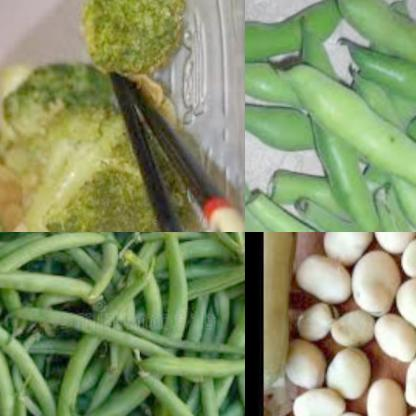beans: (0, 232, 245, 416), (245, 0, 416, 232), (295, 232, 416, 416), (261, 232, 303, 392)
broccoli: (0, 31, 167, 232), (64, 0, 186, 84)
